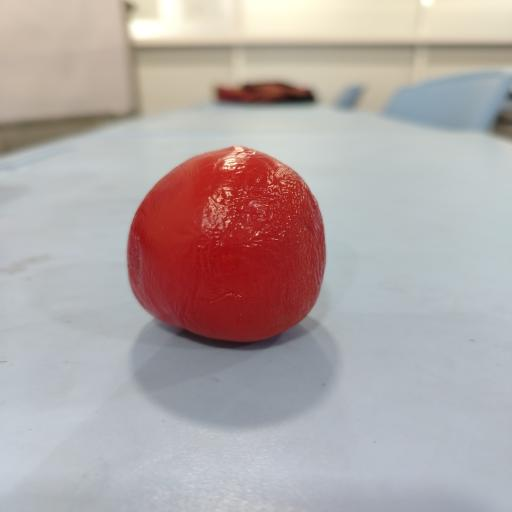spoiled: (128, 146, 325, 342)
